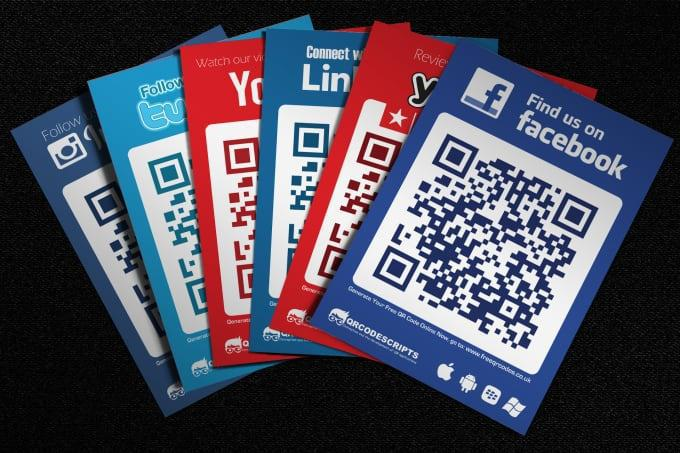Finder pattern: (549, 189, 599, 240), (432, 132, 479, 178), (353, 132, 403, 173), (374, 244, 418, 290), (82, 183, 129, 226), (143, 151, 190, 192), (288, 120, 333, 160), (217, 135, 262, 174)
